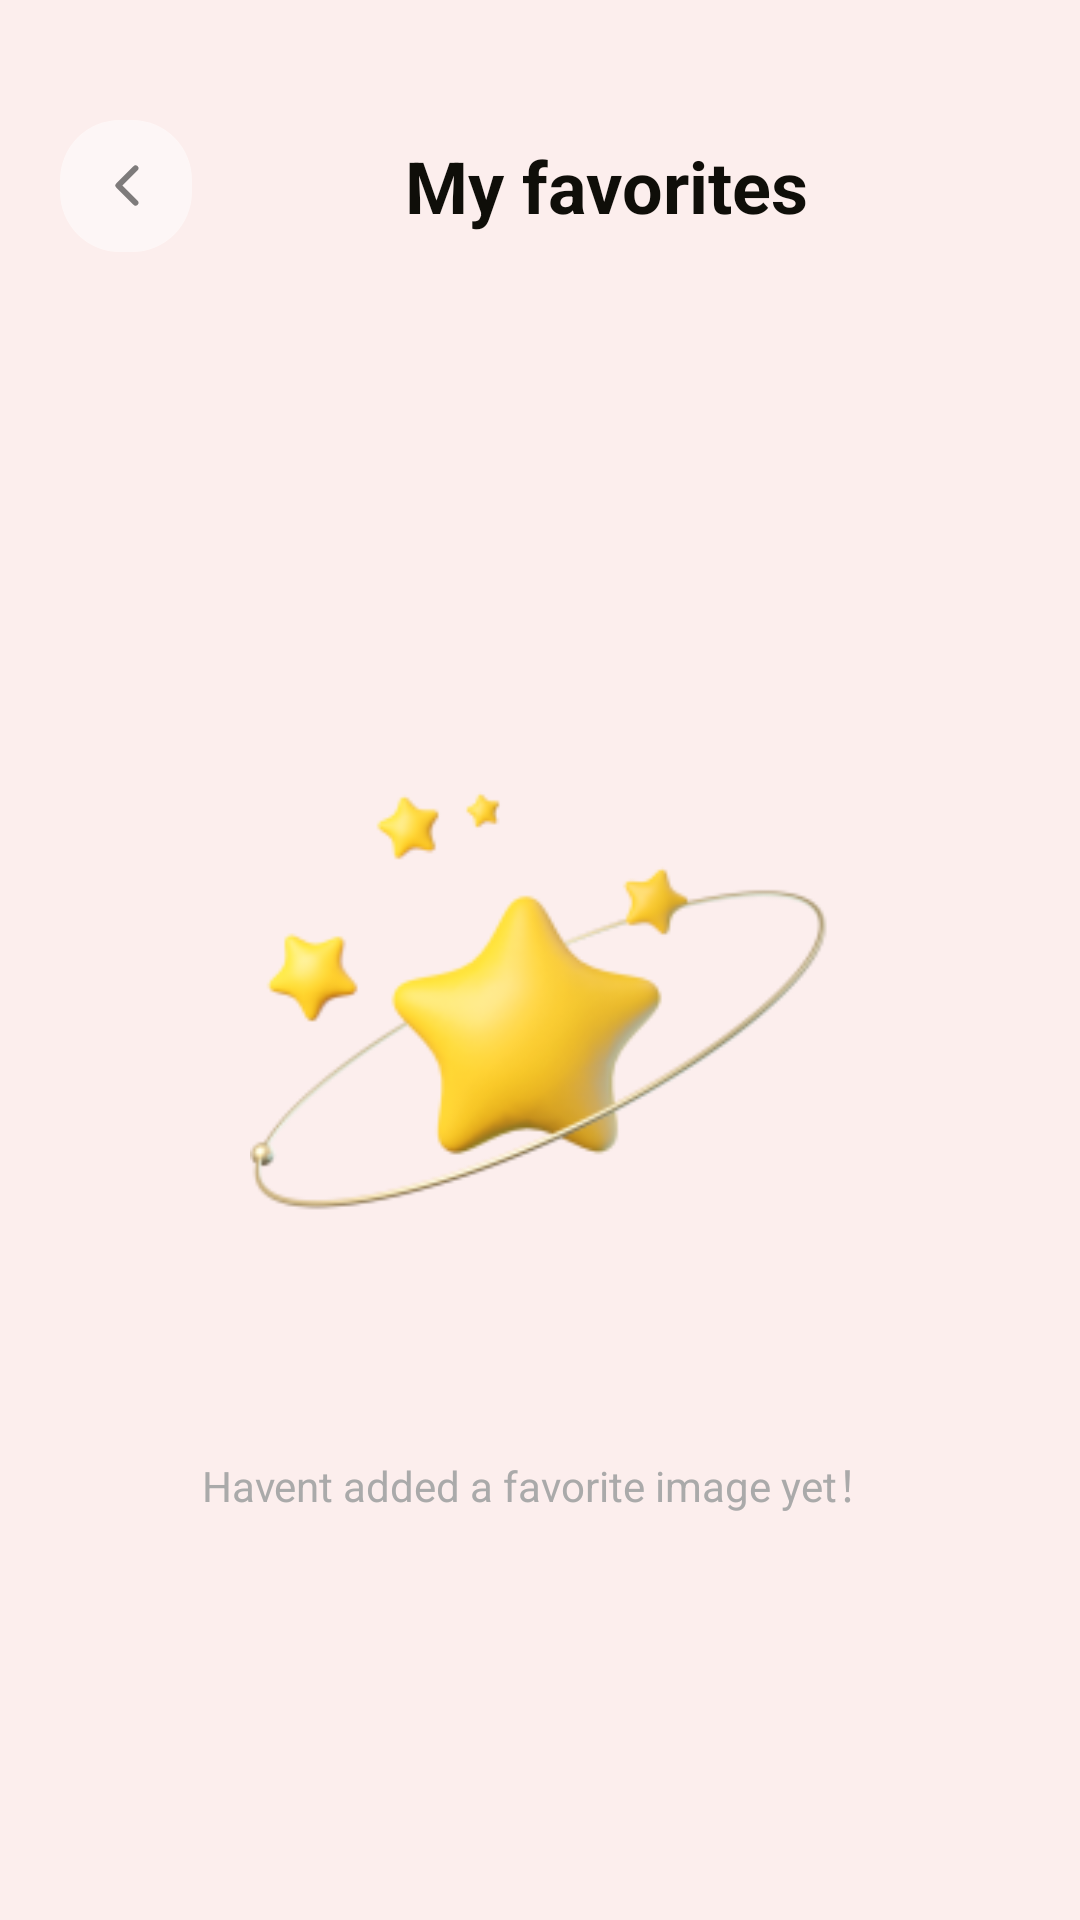

Where icons sit on this 1080 x 1920 app screen, as {"left": x1, "top": y1, "right": x2, "bottom": y2}:
back: {"left": 115, "top": 165, "right": 139, "bottom": 206}
